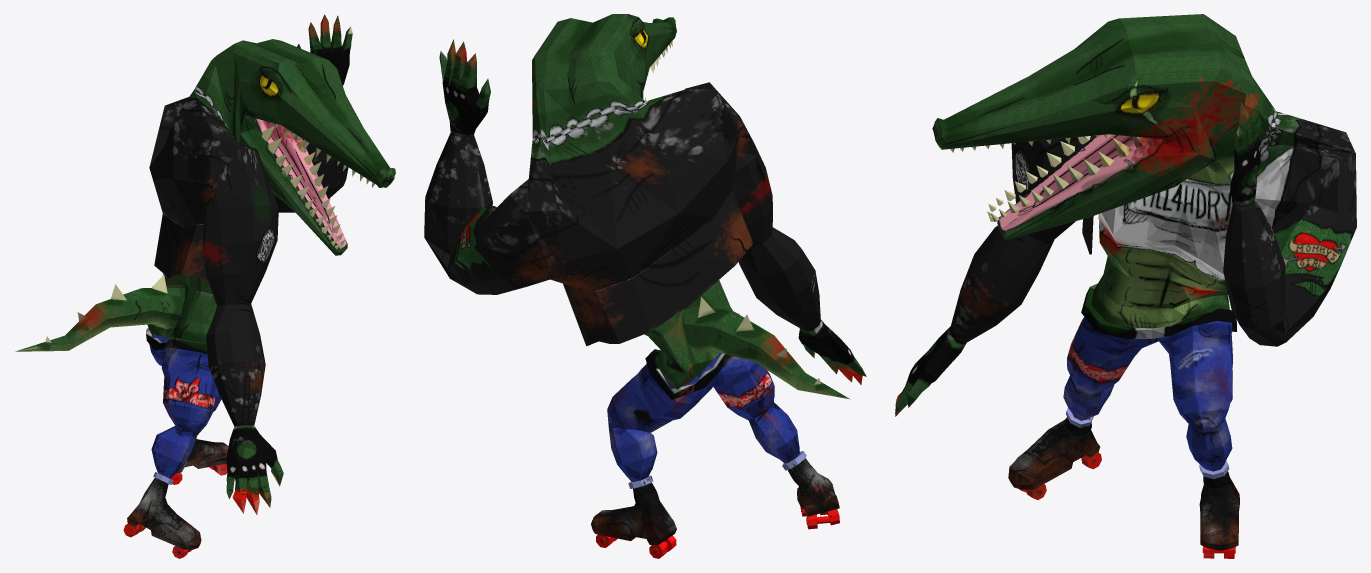
Rendered from cocodrilaBonesSelect_000055.obj.
3 renders of one model, left to right at view 1: azimuth 30°, elevation 25°; view 2: azimuth 150°, elevation 25°; view 3: azimuth 270°, elevation 25°, orthographic. The views are drawn at different scales.
Parts seen in each view (by area): view 1: Crocodile.002_Cylinder.002; view 2: Crocodile.002_Cylinder.002; view 3: Crocodile.002_Cylinder.002.
Part boxes in pixels (left/top/right/bottom): Crocodile.002_Cylinder.002: left=15, top=14, right=395, bottom=558; Crocodile.002_Cylinder.002: left=424, top=14, right=866, bottom=558; Crocodile.002_Cylinder.002: left=895, top=14, right=1356, bottom=558.
Bounding box in the file's own units: 5.24 × 6.17 × 4.63.
